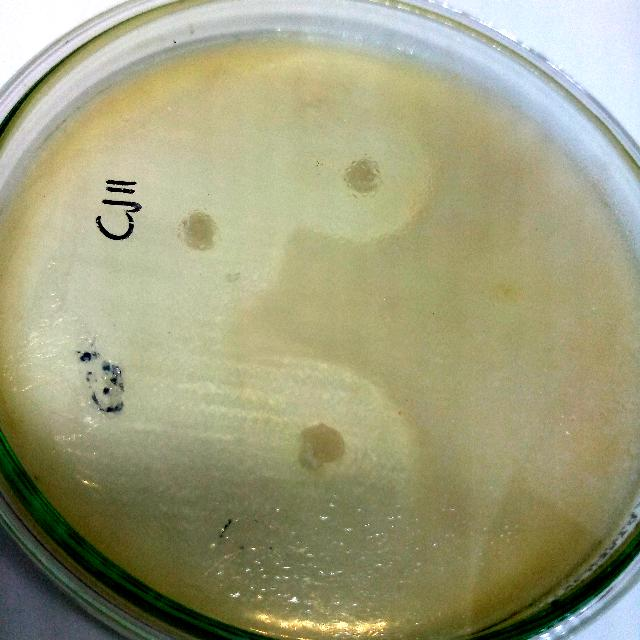colony: (296, 412, 354, 480), (333, 152, 385, 198), (174, 204, 218, 256)
